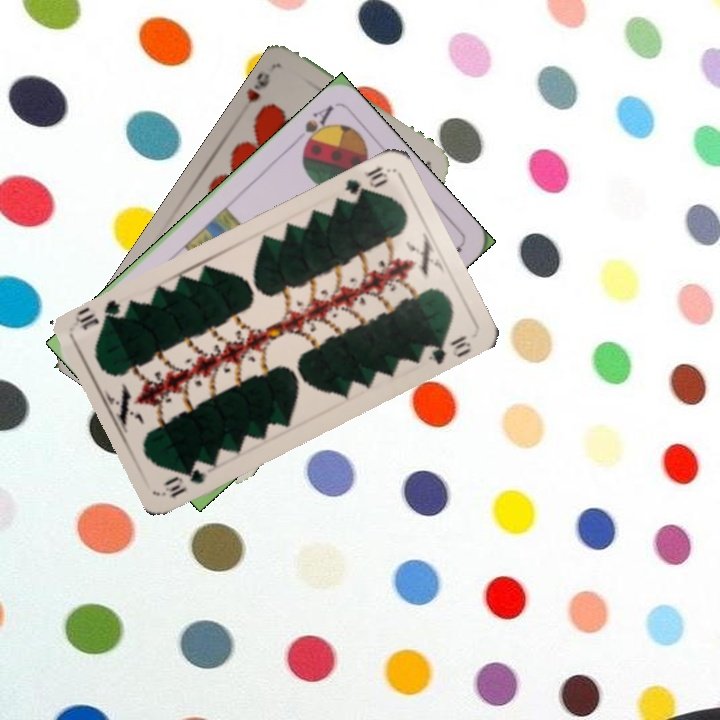G10: (160, 457, 214, 501), (340, 162, 390, 200)
H9: (238, 67, 273, 114)
SA: (298, 100, 337, 154)
